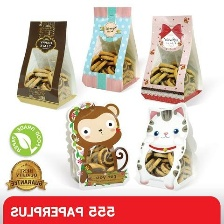snack: (59, 95, 136, 193), (12, 13, 84, 113), (137, 9, 210, 106), (132, 97, 205, 194), (78, 2, 145, 96)
